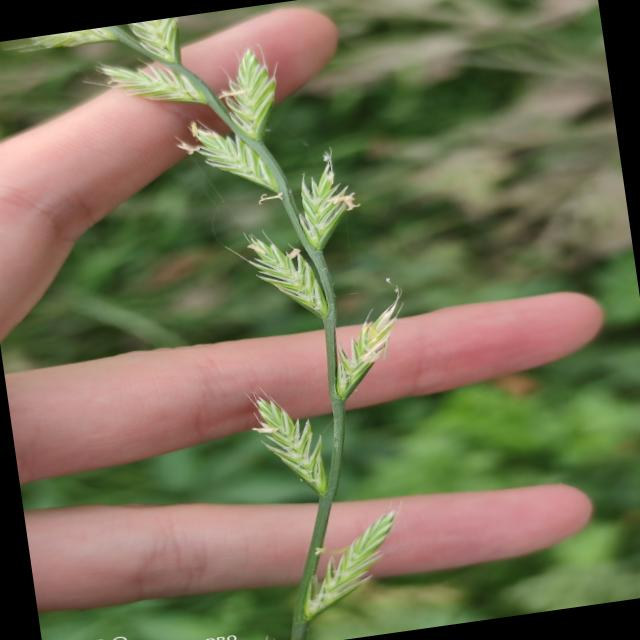Lolium: (3, 0, 454, 640)
